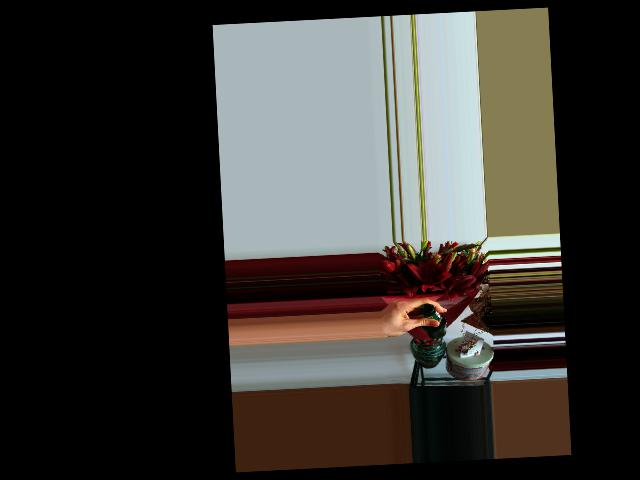beer: (419, 303, 447, 339)
